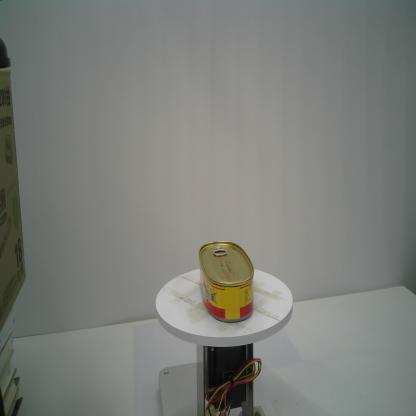Canned Food: (198, 239, 258, 326)
